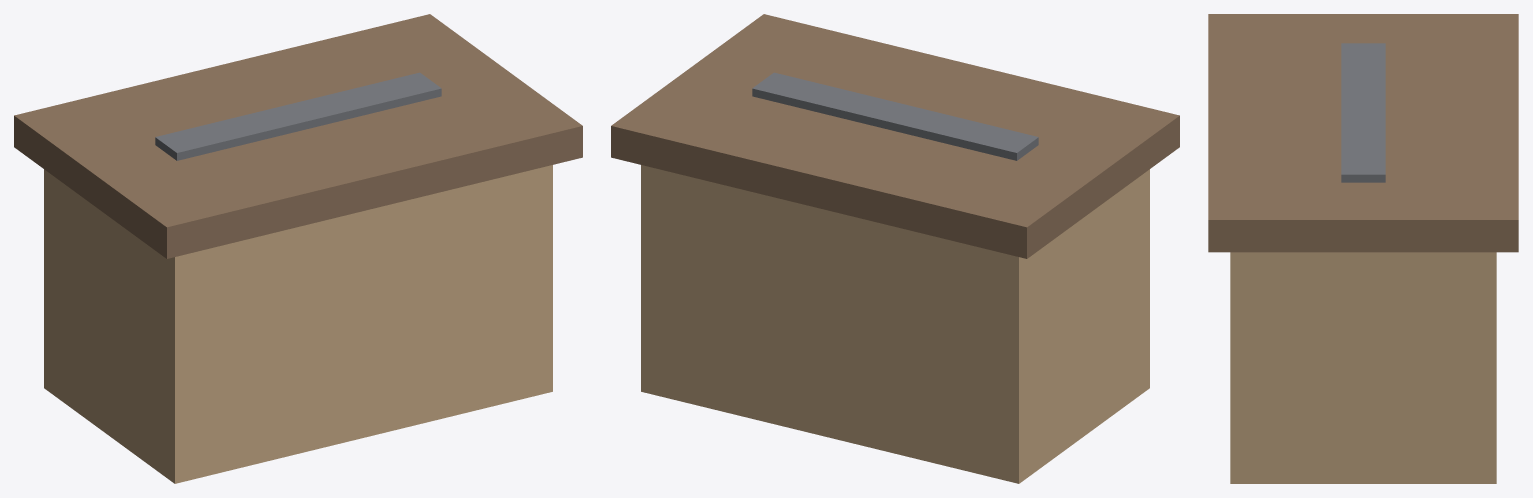
File: feudal-japan-castle-town-offering-box-138cf8b7__26378.glb
3 renders of one model, left to right at view 1: azimuth 30°, elevation 25°; view 2: azimuth 150°, elevation 25°; view 3: azimuth 270°, elevation 25°, orthographic.
Visible parts, largest first — view 1: offering-box; view 2: offering-box; view 3: offering-box.
Boxes of the visible parts, <box> form: offering-box: <box>14,14,582,483</box>; offering-box: <box>611,14,1179,483</box>; offering-box: <box>1208,14,1518,483</box>.
Size of the model in its own units: 1.1 by 0.7 by 0.6999.
